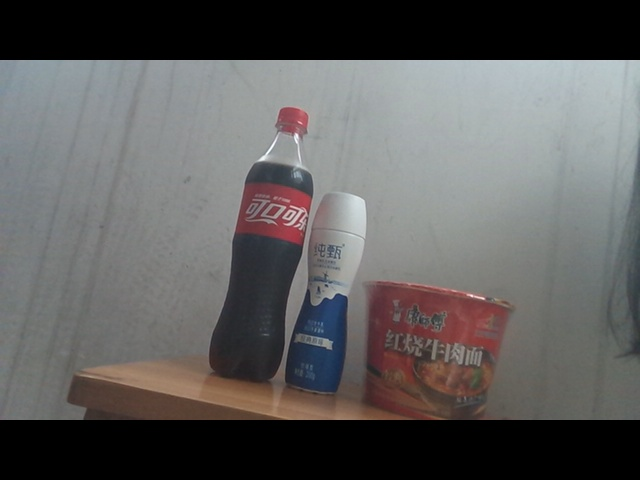cola: (209, 106, 314, 380)
kangshifu: (360, 280, 517, 420)
yogurt: (286, 190, 367, 396)
